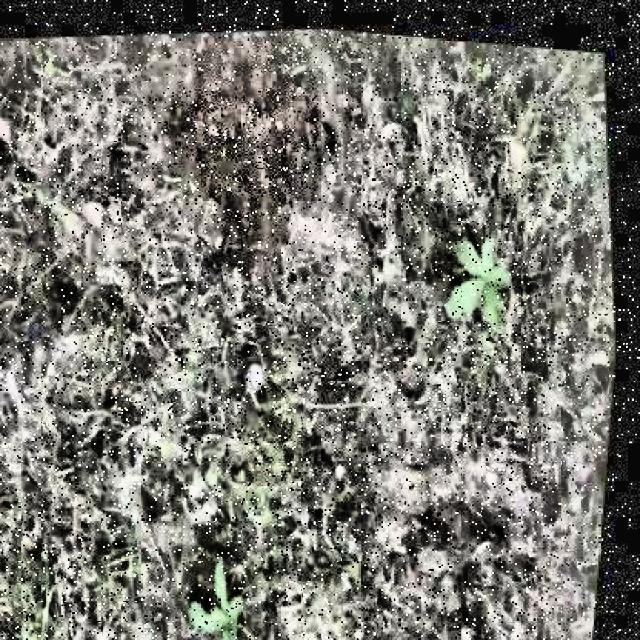Weeds: (441, 219, 522, 326), (188, 538, 270, 640)
